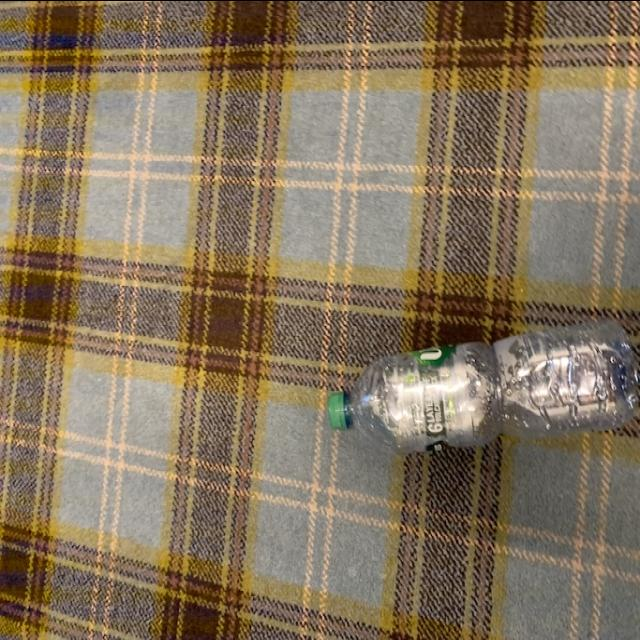PET: (328, 318, 638, 458)
